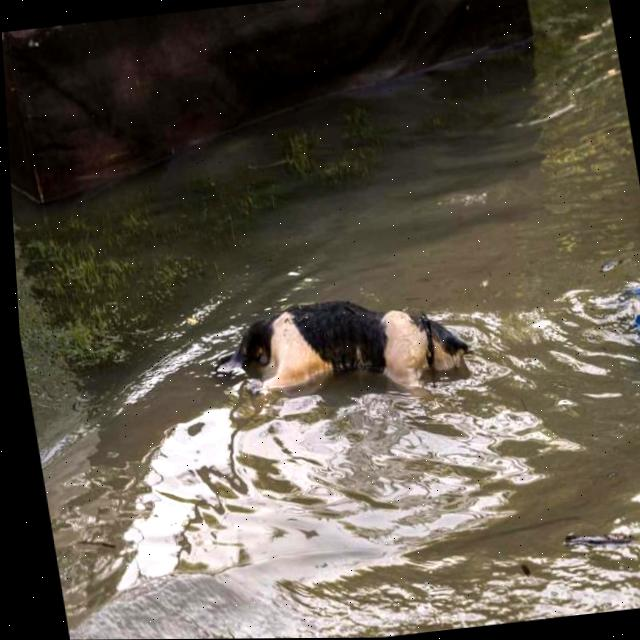dog: (206, 277, 484, 422)
